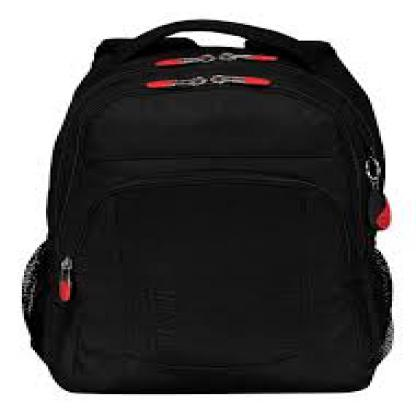morral: (11, 13, 403, 400)
